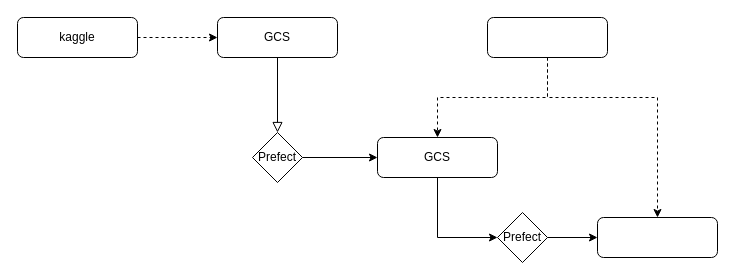
The diagram is 735 pixels wide and 280 high, and some of its shapes have lost their labels. The shapes that lost their labels are listed below. From the top down, each one's centre as x and y in pixels, then its label:
At point (547, 37): "Terraform".
At point (657, 237): "BigQuery".
